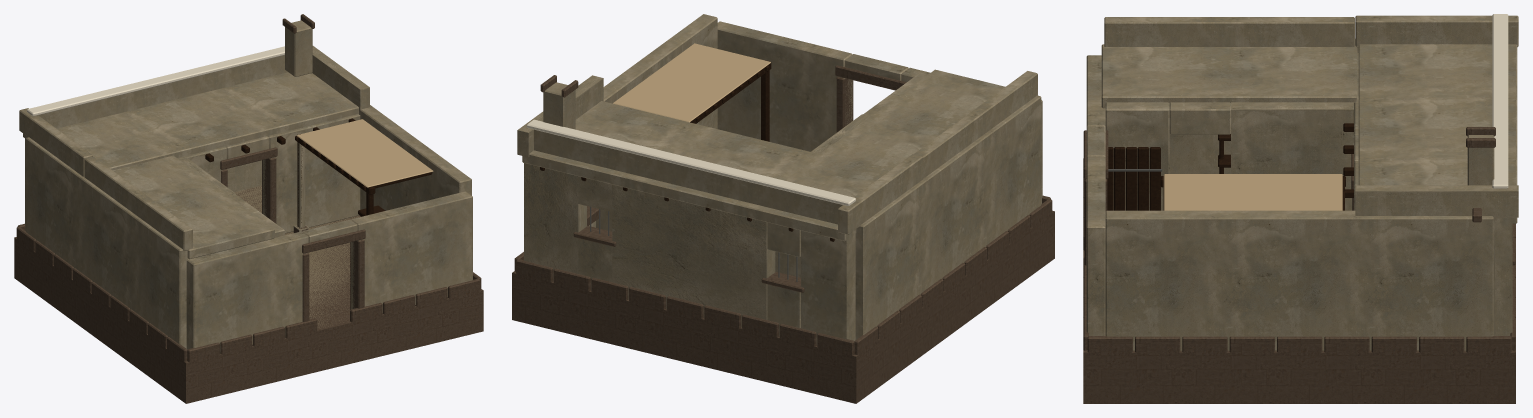
File: d_courtyard_house.glb
3 renders of one model, left to right at view 1: azimuth 30°, elevation 25°; view 2: azimuth 150°, elevation 25°; view 3: azimuth 270°, elevation 25°, orthographic. The views are drawn at different scales.
Visible parts, largest first — view 1: entry left, continuous foundation, awning woven shade, courtyard paving, rear lime cap, rear joist, roof side parapet-colonly.001, pergola upright-colonly.001, rear sill-colonly.001; view 2: entry left, continuous foundation, rear pier-colonly.001, awning woven shade, rear pier-colonly.002, rear lime cap, rear joist, rear sill-colonly.001, rear header-colonly.001, roof side parapet-colonly.001; view 3: entry left, continuous foundation, awning woven shade, rear joist, pantry pier-colonly.001, rear lime cap, roof side parapet-colonly.001, rear pier-colonly.002.
Boxes of the visible parts, x1,y1,x2,y2 form: entry left: (19,20,472,352); continuous foundation: (14,14,483,403); awning woven shade: (296,119,433,187); courtyard paving: (235,185,360,328); rear lime cap: (27,46,284,116); rear joist: (205,118,432,226); roof side parapet-colonly.001: (312,46,369,110); pergola upright-colonly.001: (297,142,305,228); rear sill-colonly.001: (235,160,261,191); entry left: (518,14,1042,344); continuous foundation: (512,65,1054,403); rear pier-colonly.001: (612,184,775,327); awning woven shade: (613,43,770,122); rear pier-colonly.002: (524,163,586,280); rear lime cap: (526,119,855,205); rear joist: (540,60,834,241); rear sill-colonly.001: (578,238,612,290); rear header-colonly.001: (578,176,612,211); roof side parapet-colonly.001: (517,75,603,157); entry left: (1086,15,1518,350); continuous foundation: (1083,127,1515,403); awning woven shade: (1163,174,1342,210); rear joist: (1107,123,1353,210); pantry pier-colonly.001: (1231,102,1353,208); rear lime cap: (1492,14,1508,188); roof side parapet-colonly.001: (1355,185,1518,217); rear pier-colonly.002: (1493,223,1512,335).
Size of what is drawn, in the model's own units: 9.33 by 5.93 by 9.2.
Materials: 8 (4 with a texture image).
